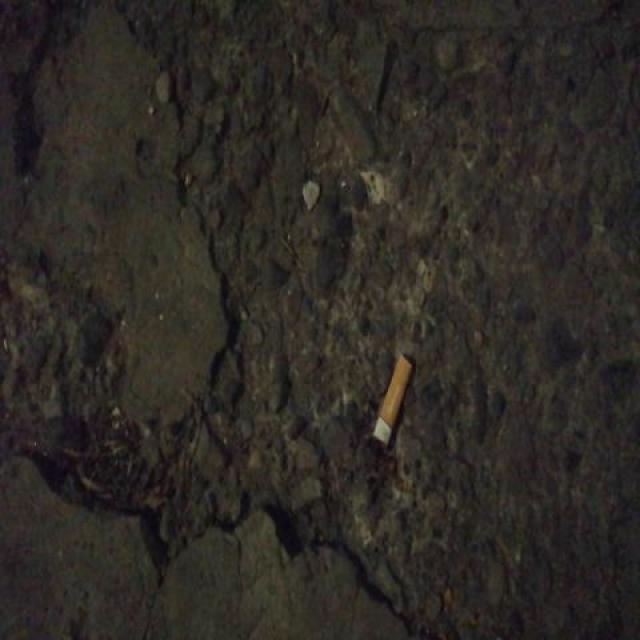non-organic waste: (369, 350, 416, 450)
